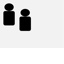human: (17, 6, 31, 32), (2, 1, 16, 26)
